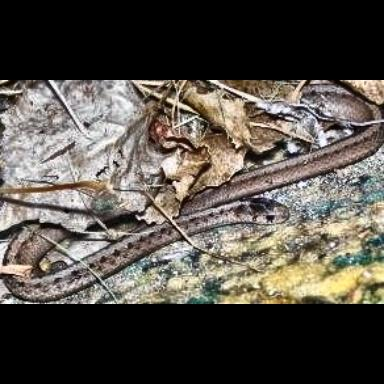snake: (0, 113, 382, 307)
